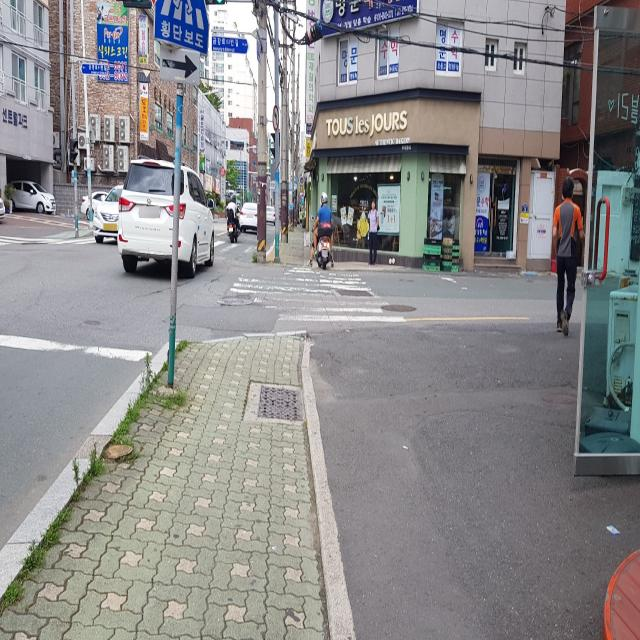횡단보도: (229, 266, 407, 324)
